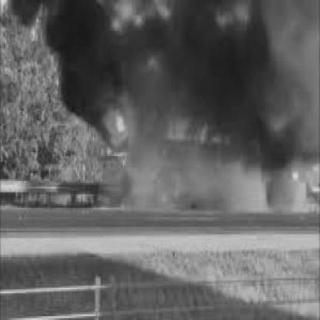Smoke: (45, 0, 312, 116)
